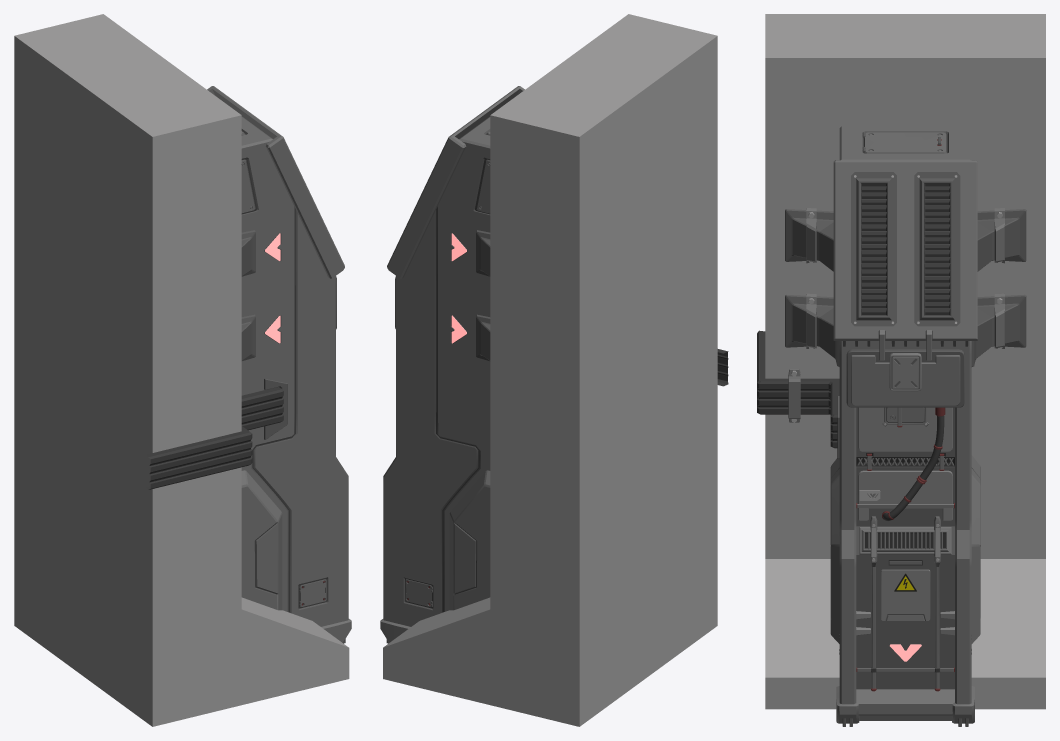
3 views of the same model, side by side, from view 1: azimuth 30°, elevation 25°; view 2: azimuth 150°, elevation 25°; view 3: azimuth 270°, elevation 25° (orthographic).
Visible parts, largest first — view 1: Cube.001_1, Cube_0, Cube.006_7, Cube.003_3, Cube.019_34, Cube.002_2, Plane.003_6; view 2: Cube.001_1, Cube_0, Cube.003_3, Cube.019_34, Cube.002_2; view 3: Cube.001_1, Cube_0, Plane.008_12, Cube.019_34, Cube.002_2, Plane.013_32, Cube.003_3, Cube.006_7, Plane.012_29, Plane.009_19, Cube.005_5, Plane.006_10 (+7 smaller).
Boxes of the visible parts, x1,y1,x2,y2 form: Cube.001_1: (14,14,349,726); Cube_0: (241,116,351,642); Cube.006_7: (146,387,283,489); Cube.003_3: (241,470,282,610); Cube.019_34: (207,86,344,278); Cube.002_2: (241,230,255,360); Plane.003_6: (264,378,287,439); Cube.001_1: (383,14,717,726); Cube_0: (380,116,490,642); Cube.003_3: (449,470,490,610); Cube.019_34: (387,86,524,278); Cube.002_2: (476,230,490,360); Cube.001_1: (765,14,1045,709); Cube_0: (836,126,974,723); Plane.008_12: (851,172,960,326); Cube.019_34: (833,160,977,340); Cube.002_2: (785,208,1026,366); Plane.013_32: (851,355,960,405); Cube.003_3: (830,455,980,643); Cube.006_7: (757,330,839,448); Plane.012_29: (858,407,952,451); Plane.009_19: (858,470,952,520); Cube.005_5: (856,689,954,715); Plane.006_10: (881,569,930,620).
Size of the model in its own units: 4.61 by 10.7 by 4.68.
11 materials, 1 textured.
